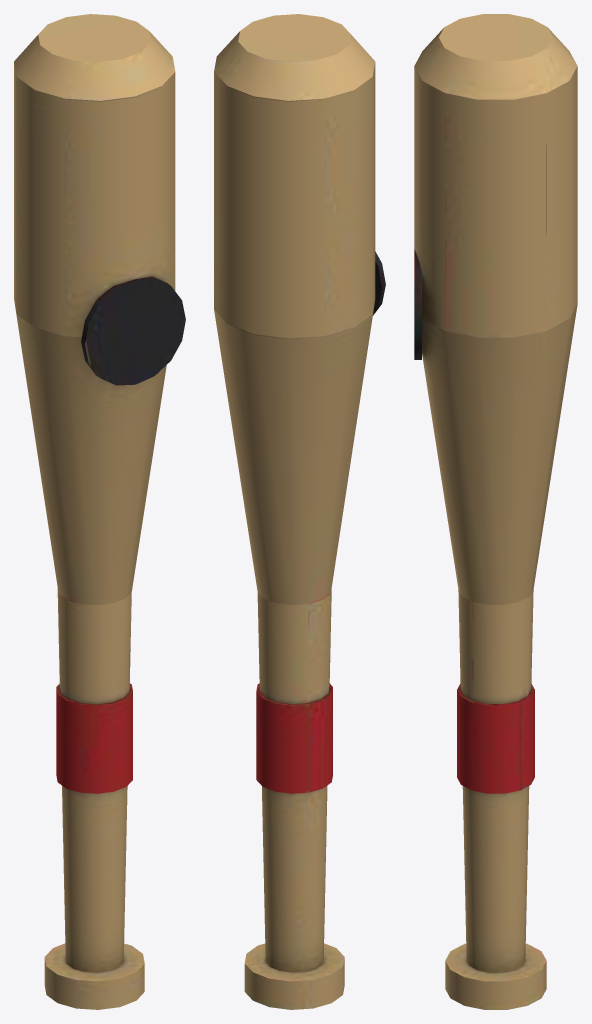
File: bate_gigante.glb
The picture shows the model from 3 angles, left to right: view 1: azimuth 30°, elevation 25°; view 2: azimuth 150°, elevation 25°; view 3: azimuth 270°, elevation 25°; orthographic projection.
Visible parts, largest first — view 1: bate_gigante; view 2: bate_gigante; view 3: bate_gigante.
Boxes of the visible parts, bbox=[...] form: bate_gigante: bbox=[14, 14, 185, 1009]; bate_gigante: bbox=[214, 14, 385, 1009]; bate_gigante: bbox=[414, 14, 577, 1009].
Size of the model in its own units: 0.8189 by 5.4 by 0.84.
1 material, 1 textured.
